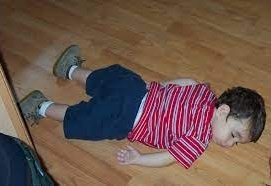fall: (19, 46, 268, 166)
